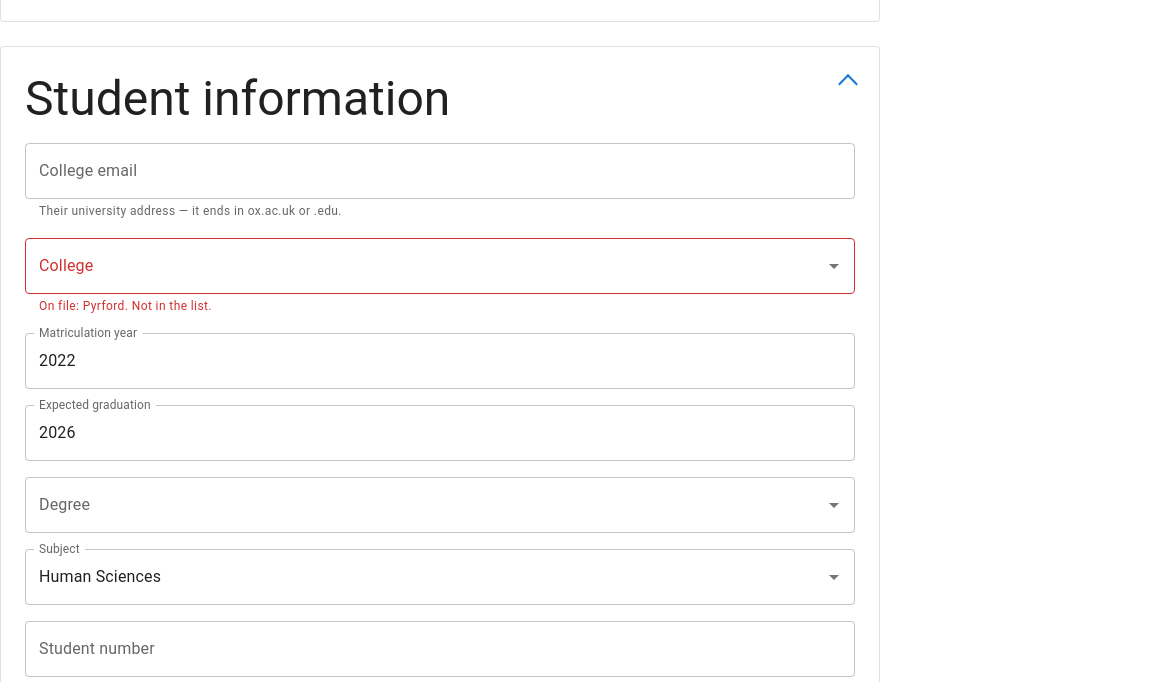
a four-role operator › shows the reason box only once a value actually changes, and hides it again when reverted
(page scrolled)
Replace the text in the field labelled "Matriculation year" with "2021" at (440, 361), box x1=25 y1=333 x2=855 y2=389
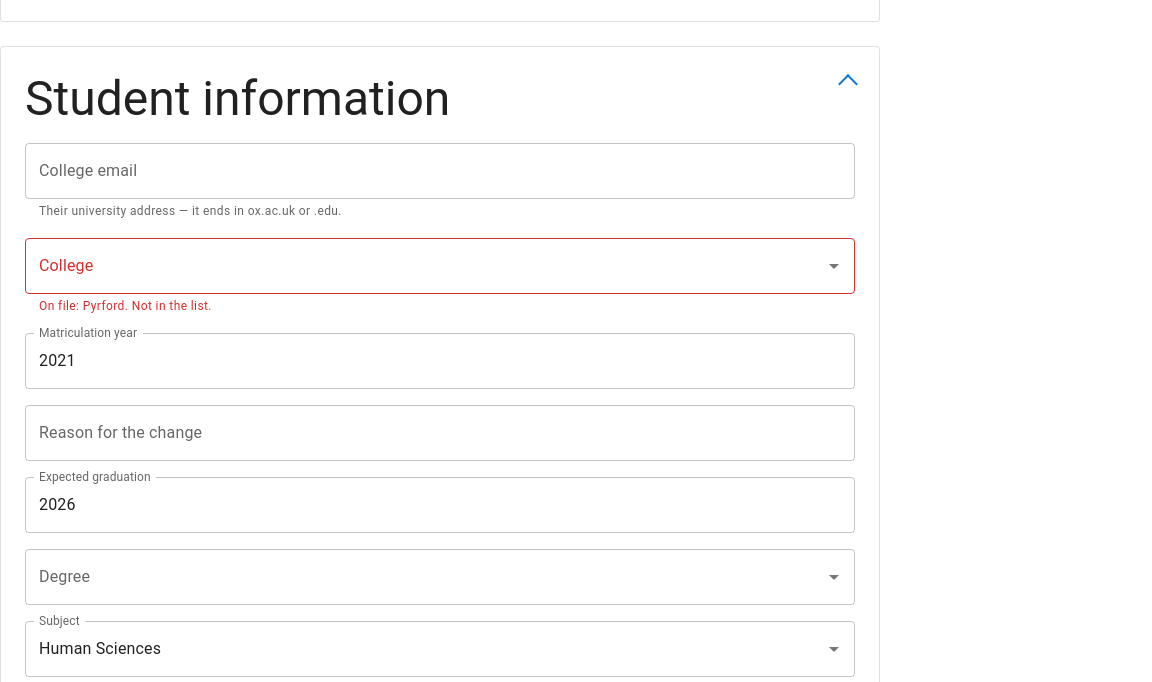
Expected: the number of fields labelled "Reason for the change" is 1, x1=25 y1=405 x2=855 y2=461
Replace the text in the field labelled "Matriculation year" with "2022" at (440, 361), box x1=25 y1=333 x2=855 y2=389
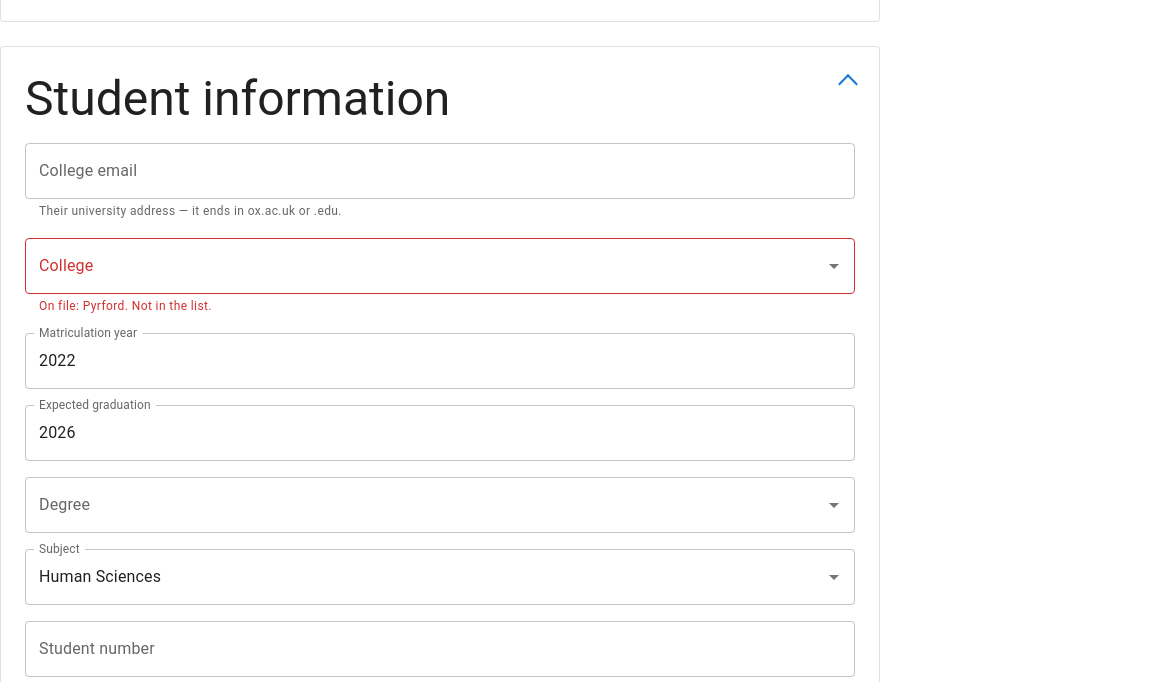
Expected: no labels labelled "Reason for the change" are shown
